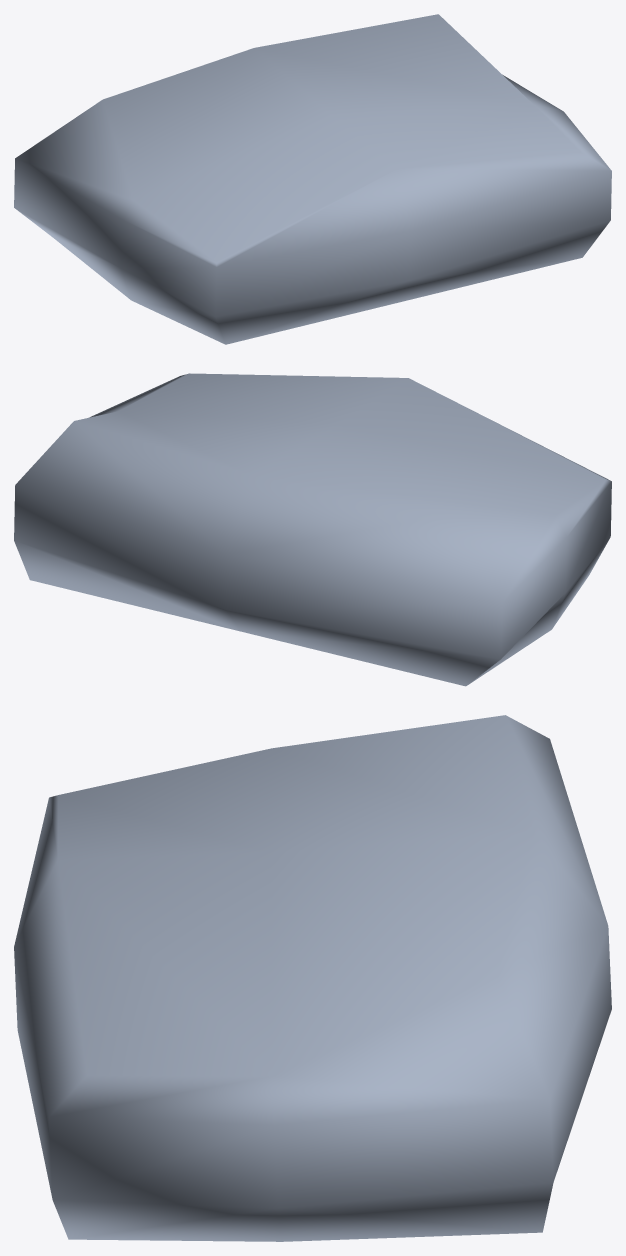
File: S_Boulder_06.fbx
3 renders of one model, top to bottom at view 1: azimuth 30°, elevation 25°; view 2: azimuth 150°, elevation 25°; view 3: azimuth 270°, elevation 25°, orthographic. The views are drawn at different scales.
Visible parts, largest first — view 1: S_Boulder_06; view 2: S_Boulder_06; view 3: S_Boulder_06.
Part boxes in pixels (x1,y1,x2,y2): S_Boulder_06: [14, 14, 611, 344]; S_Boulder_06: [14, 373, 611, 686]; S_Boulder_06: [14, 715, 611, 1241].
Bounding box in the file's own units: 138 × 43.29 × 92.44.
